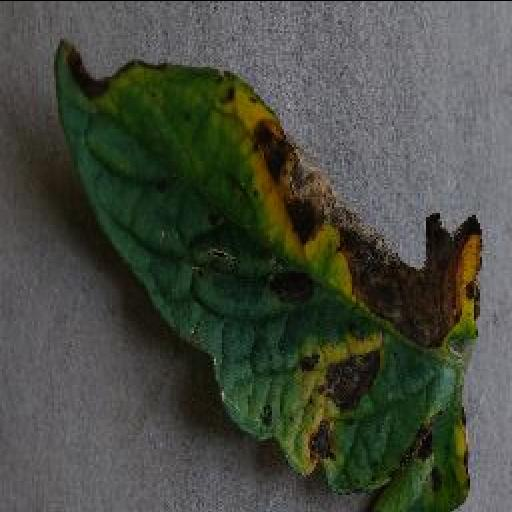Early Blight: (48, 38, 482, 510)
